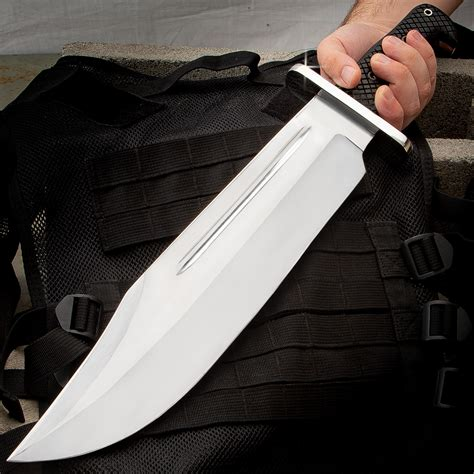knife: (5, 2, 463, 466)
